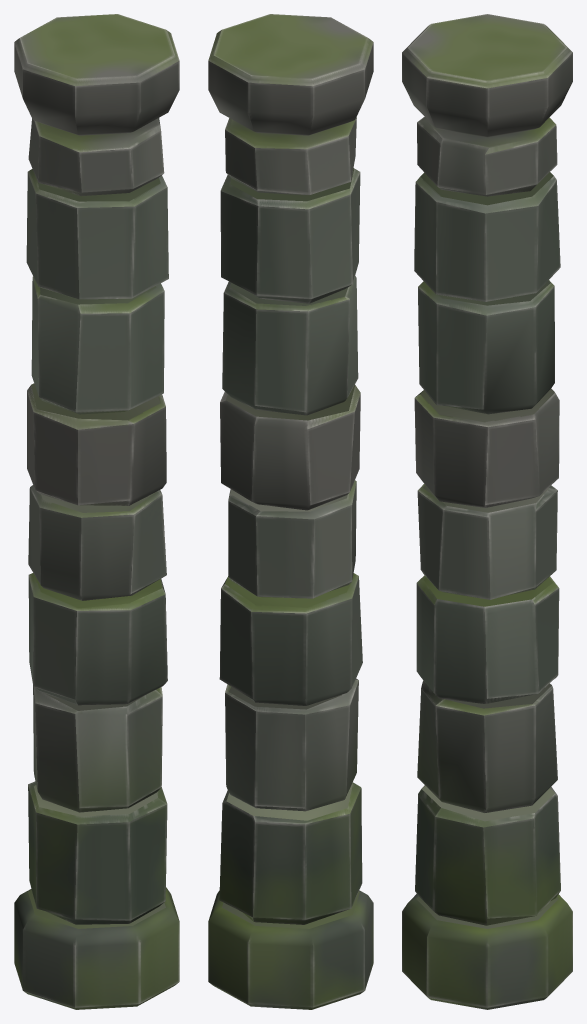
Rendered from crypt_corner.glb.
3 renders of one model, left to right at view 1: azimuth 30°, elevation 25°; view 2: azimuth 150°, elevation 25°; view 3: azimuth 270°, elevation 25°, orthographic.
Visible parts, largest first — view 1: crypt_corner; view 2: crypt_corner; view 3: crypt_corner.
Boxes of the visible parts, x1,y1,x2,y2 form: crypt_corner: [14, 14, 179, 1009]; crypt_corner: [208, 14, 373, 1009]; crypt_corner: [402, 14, 572, 1009].
Size of the model in its own units: 1 by 6 by 1.
Materials: 1 (1 with a texture image).
